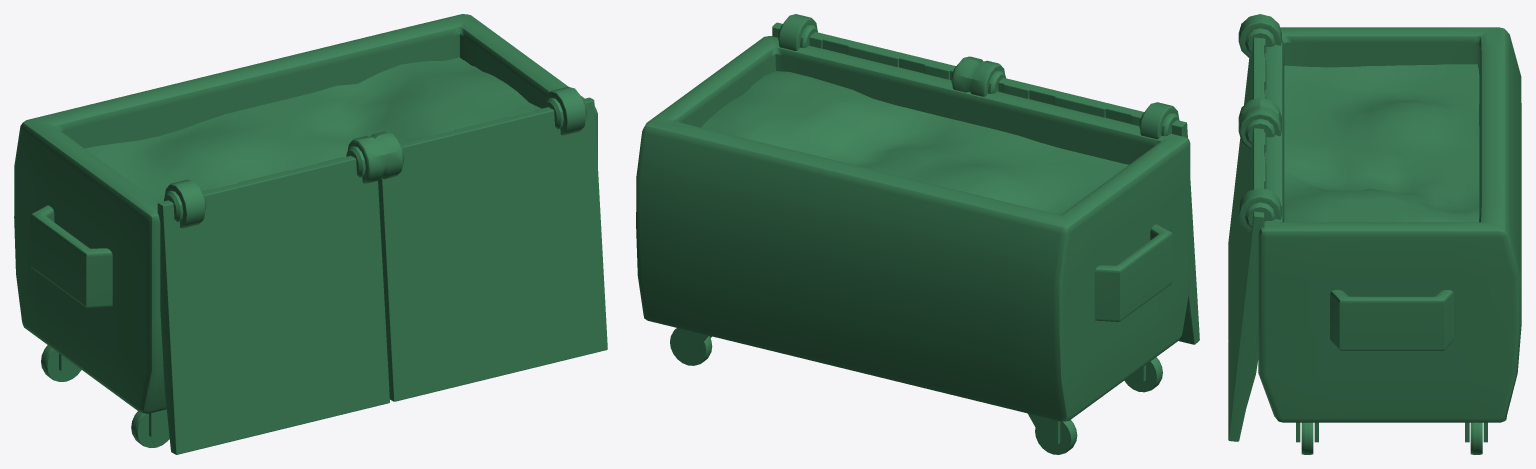
The model's file is Dumpy.fbx.
The picture shows the model from 3 angles, left to right: view 1: azimuth 30°, elevation 25°; view 2: azimuth 150°, elevation 25°; view 3: azimuth 270°, elevation 25°; orthographic projection. The views are drawn at different scales.
Parts seen in each view (by area): view 1: group3_pCube21; view 2: group3_pCube21; view 3: group3_pCube21.
Boxes of the visible parts, x1,y1,x2,y2 form: group3_pCube21: (14, 14, 607, 454); group3_pCube21: (636, 14, 1199, 454); group3_pCube21: (1228, 14, 1521, 454).
Bounding box in the file's own units: 247 × 134 × 136.
